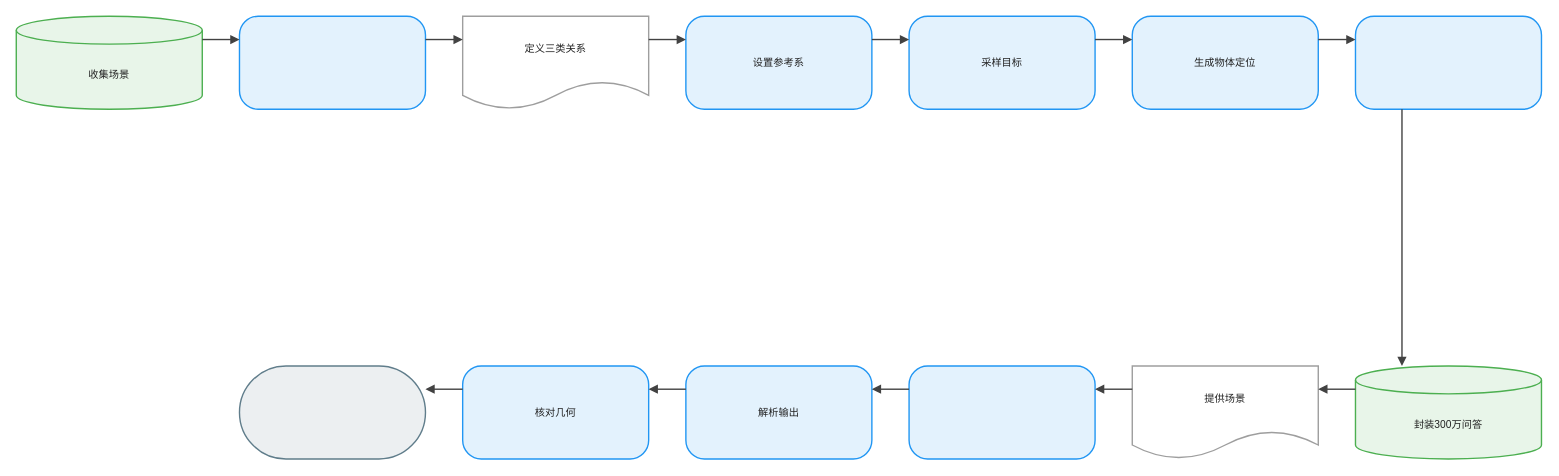
Image size: 1559x476. Some labels were removed from this diagram. Here are the shapes that lost their labels. From the top down, the centre of each, then its label:
At [332,62]: "载入三维标注".
At [1448,62]: "留出未见扫描".
At [332,412]: "报告6000题".
At [1001,412]: "预测答案".
